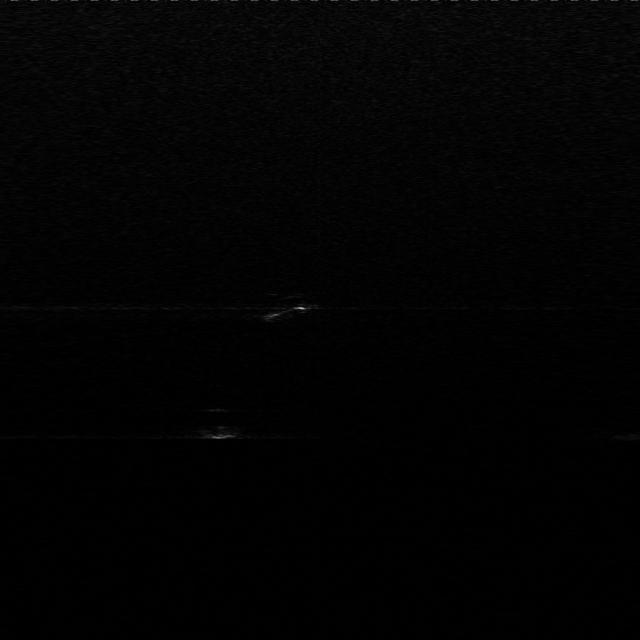ball: (188, 402, 251, 444)
tyre: (254, 288, 316, 326)
